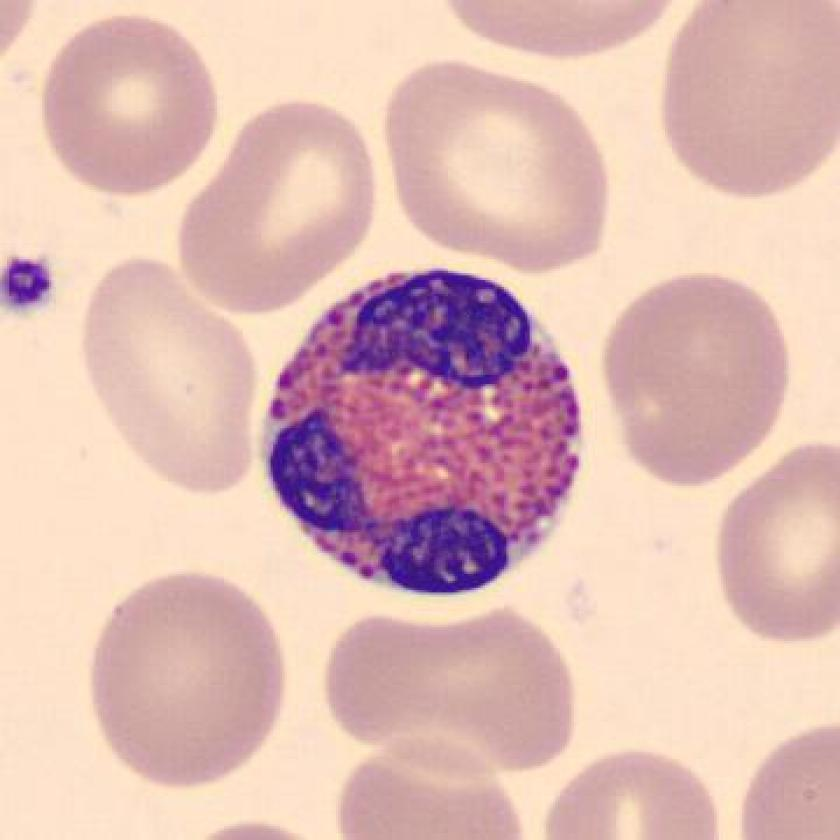eosinophil: (248, 249, 594, 612)
